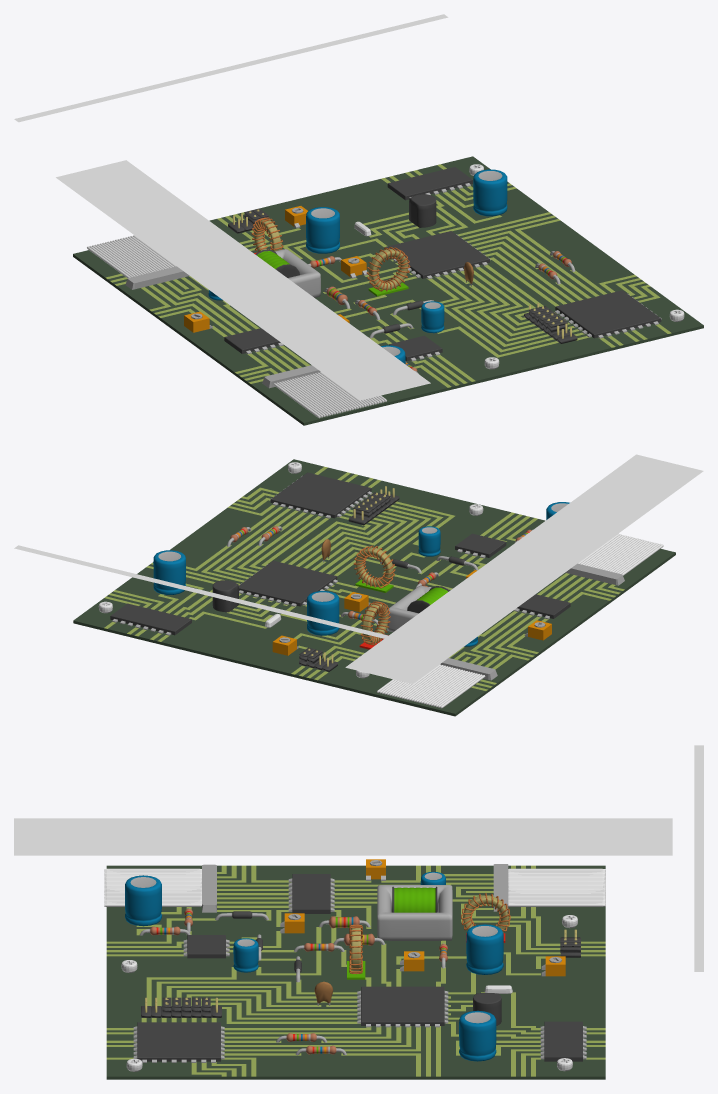
File: circuitboard.fbx
3 renders of one model, top to bottom at view 1: azimuth 30°, elevation 25°; view 2: azimuth 150°, elevation 25°; view 3: azimuth 270°, elevation 25°, orthographic. The views are drawn at different scales.
Visible parts, largest first — view 1: board, Cube.001, CHIP.001, CHIP, Ribbon Cable, Plane, Ribbon Cable.001, DIP, Capacitor2.001, Capacitor2, transformer, DIP.001 (+6 smaller); view 2: board, Cube.001, CHIP.001, CHIP, Ribbon Cable.001, Plane, Ribbon Cable, DIP, transformer, Capacitor2, Capacitor2.001, DIP.001 (+11 smaller); view 3: board, Cube.001, transformer, Ribbon Cable.001, CHIP, CHIP.001, Ribbon Cable, Plane, DIP, DIP.001, Capacitor2, Capacitor2.001 (+10 smaller).
Boxes of the visible parts, bbox=[...] form: board: bbox=[73, 156, 703, 425]; Cube.001: bbox=[56, 160, 430, 400]; CHIP.001: bbox=[554, 290, 661, 338]; CHIP: bbox=[384, 231, 490, 279]; Ribbon Cable: bbox=[273, 372, 386, 418]; Plane: bbox=[14, 14, 448, 122]; Ribbon Cable.001: bbox=[87, 235, 176, 278]; DIP: bbox=[387, 167, 472, 200]; Capacitor2.001: bbox=[473, 169, 507, 216]; Capacitor2: bbox=[306, 207, 339, 253]; transformer: bbox=[255, 249, 320, 297]; DIP.001: bbox=[224, 328, 283, 354]; board: bbox=[73, 459, 675, 716]; Cube.001: bbox=[345, 454, 703, 683]; CHIP.001: bbox=[270, 472, 372, 518]; CHIP: bbox=[239, 560, 337, 606]; Ribbon Cable.001: bbox=[377, 664, 485, 708]; Plane: bbox=[14, 545, 428, 648]; Ribbon Cable: bbox=[578, 533, 663, 575]; DIP: bbox=[110, 603, 191, 635]; transformer: bbox=[387, 585, 449, 632]; Capacitor2: bbox=[307, 591, 339, 635]; Capacitor2.001: bbox=[153, 550, 185, 594]; DIP.001: bbox=[514, 594, 570, 619]; board: bbox=[106, 865, 605, 1079]; Cube.001: bbox=[14, 818, 672, 855]; transformer: bbox=[377, 885, 452, 940]; Ribbon Cable.001: bbox=[508, 868, 605, 906]; CHIP: bbox=[357, 986, 448, 1027]; CHIP.001: bbox=[133, 1022, 224, 1062]; Ribbon Cable: bbox=[104, 868, 201, 906]; Plane: bbox=[694, 745, 703, 971]; DIP: bbox=[540, 1021, 586, 1061]; DIP.001: bbox=[288, 874, 334, 913]; Capacitor2: bbox=[466, 924, 503, 974]; Capacitor2.001: bbox=[459, 1010, 496, 1061].
Bounding box in the file's own units: 1075 × 261 × 1383.
